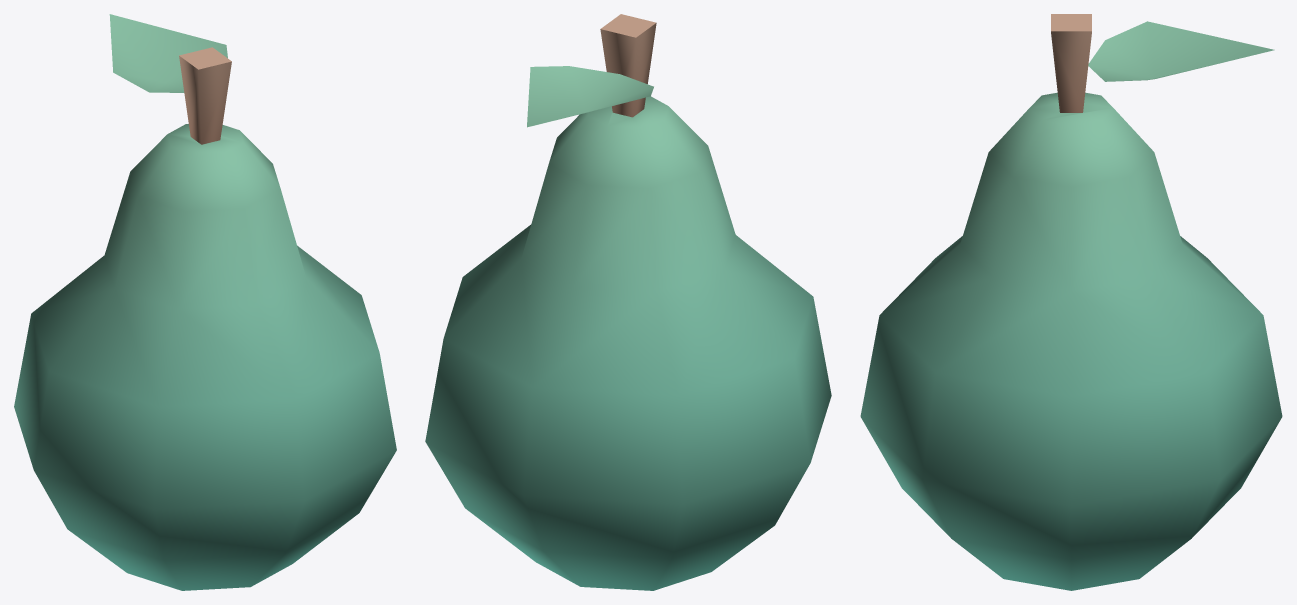
Rendered from pear.glb.
The picture shows the model from 3 angles, left to right: view 1: azimuth 30°, elevation 25°; view 2: azimuth 150°, elevation 25°; view 3: azimuth 270°, elevation 25°; orthographic projection. The views are drawn at different scales.
Visible parts, largest first — view 1: pear; view 2: pear; view 3: pear.
Part boxes in pixels (bbox=[...]): pear: bbox=[14, 14, 396, 590]; pear: bbox=[425, 14, 831, 590]; pear: bbox=[860, 14, 1282, 590].
Bounding box in the file's own units: 0.1963 × 0.2708 × 0.1963.
